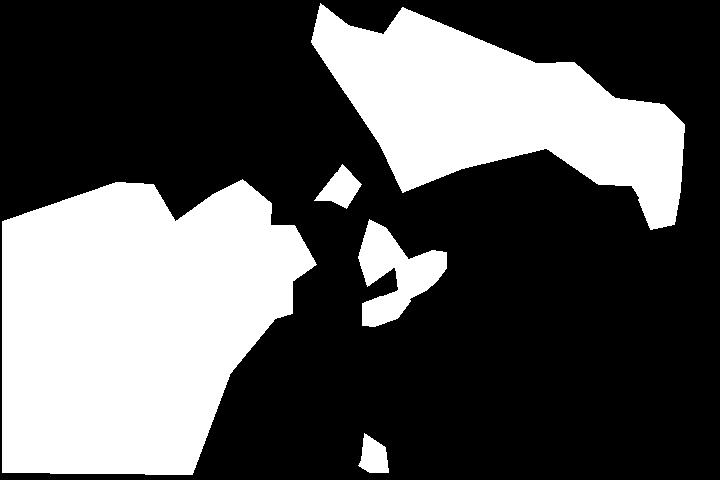fire: (355, 246, 459, 332), (611, 163, 675, 242), (163, 279, 225, 356), (305, 164, 368, 214), (355, 438, 399, 480)
